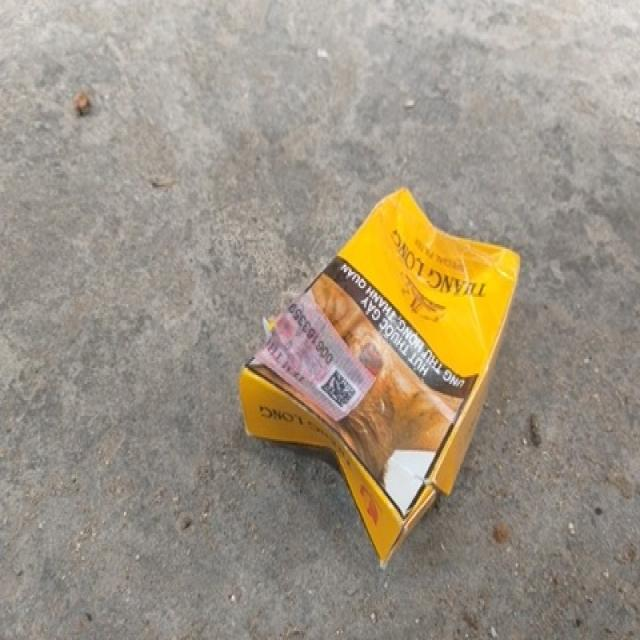PaperCardboard: (243, 188, 522, 559)
